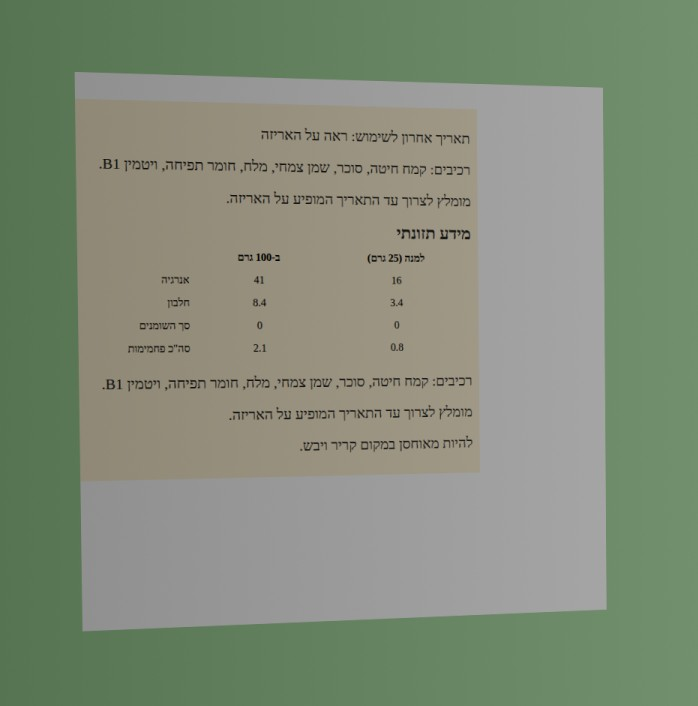carbs: (252, 341, 268, 355)
energy: (252, 273, 266, 287)
fat: (256, 318, 264, 332)
protein: (251, 296, 268, 310)
